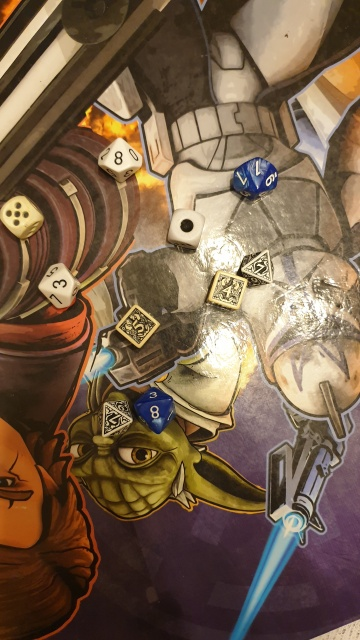d10-1: (232, 150, 285, 204)
d10-3: (38, 259, 85, 313)
d10-8: (98, 136, 148, 185), (133, 384, 179, 435)
d6-1: (166, 206, 202, 246)
d6-5: (1, 194, 39, 235)
d6p-4: (205, 270, 250, 310)
d6p-5: (114, 306, 160, 349)
d8p-7: (98, 396, 134, 435), (242, 246, 276, 287)
